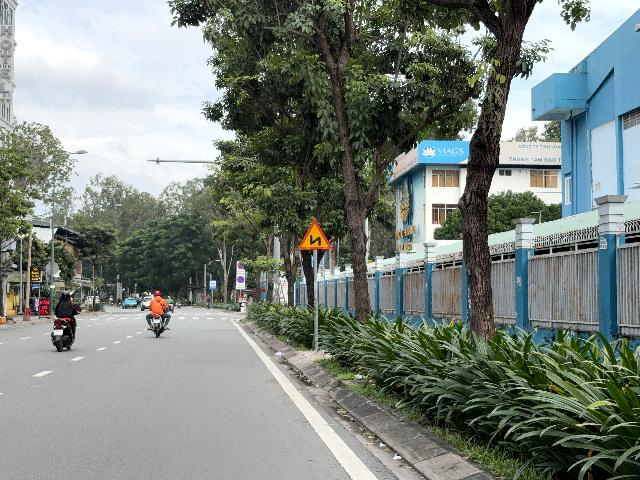nhieu-cho-ngoat-nguy-hiem-lien-tiep: (298, 219, 332, 249)
